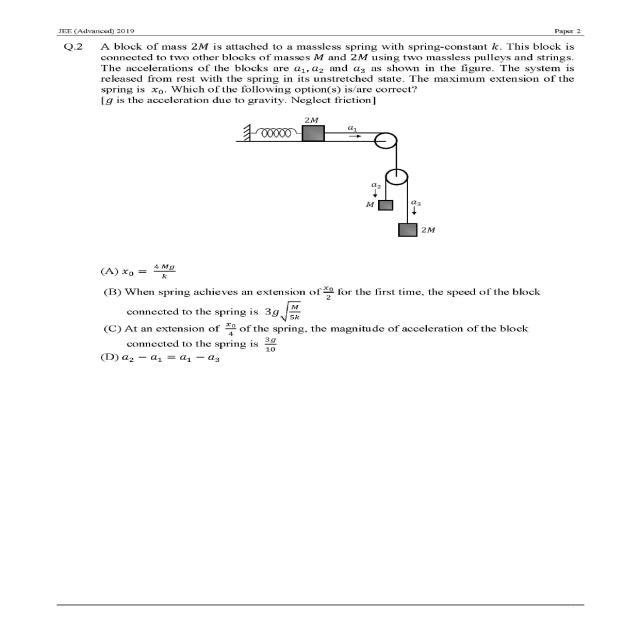Answer_Block: (43, 256, 607, 394)
Question_Answer_Block: (43, 38, 607, 394)
Question_Block: (43, 38, 607, 256)
Question_Paper_Area: (43, 37, 607, 485)
